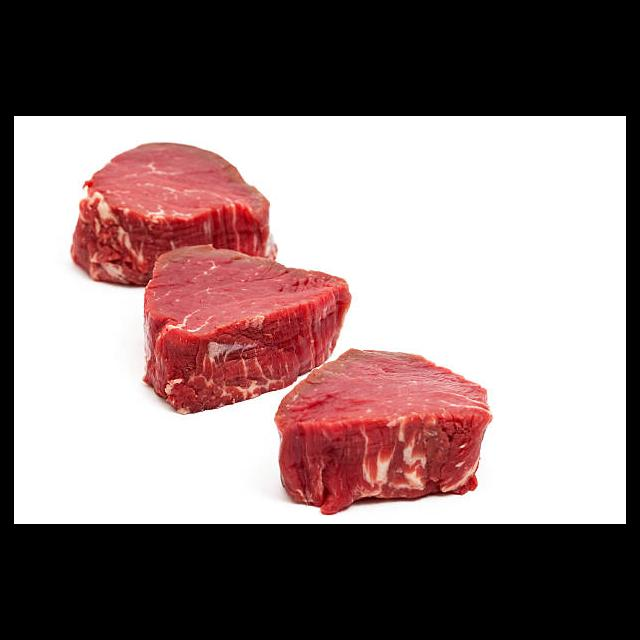beef: (271, 344, 495, 515), (142, 240, 352, 415), (65, 135, 279, 282)
